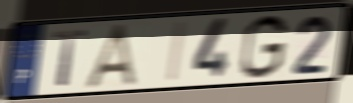2: (288, 10, 337, 79)
4: (191, 15, 234, 84)
A: (83, 21, 142, 89)
G: (238, 13, 290, 81)
I: (165, 19, 189, 85)
T: (51, 27, 90, 89)
